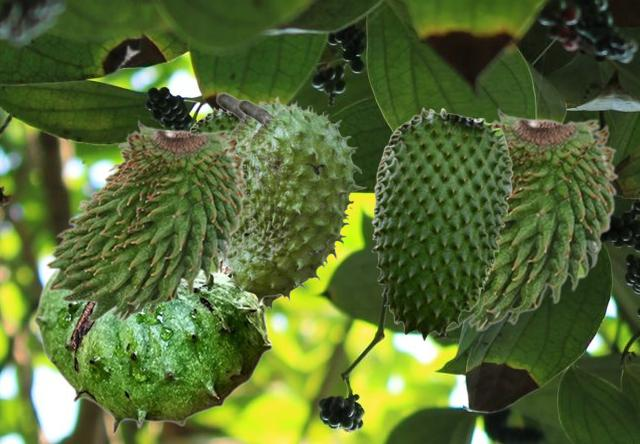guyabano: (33, 254, 272, 434), (44, 119, 246, 321), (447, 107, 618, 331), (371, 107, 512, 340), (224, 99, 366, 305), (215, 92, 329, 315), (189, 107, 237, 132)
